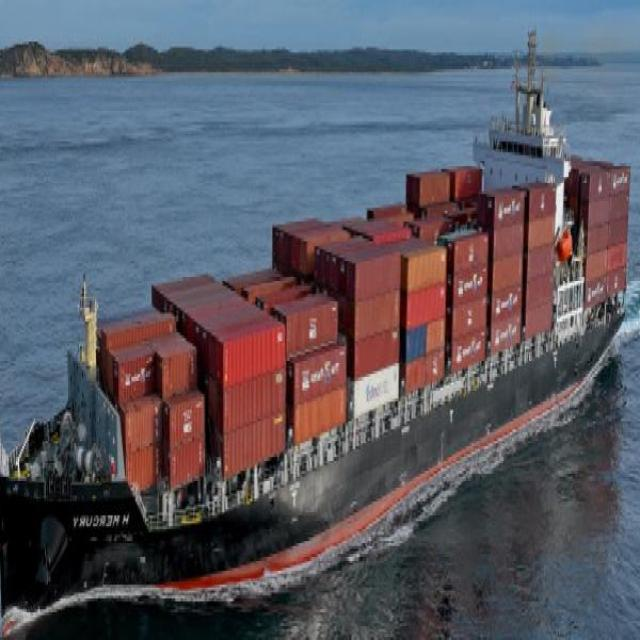Container Ship: (0, 18, 628, 628)
